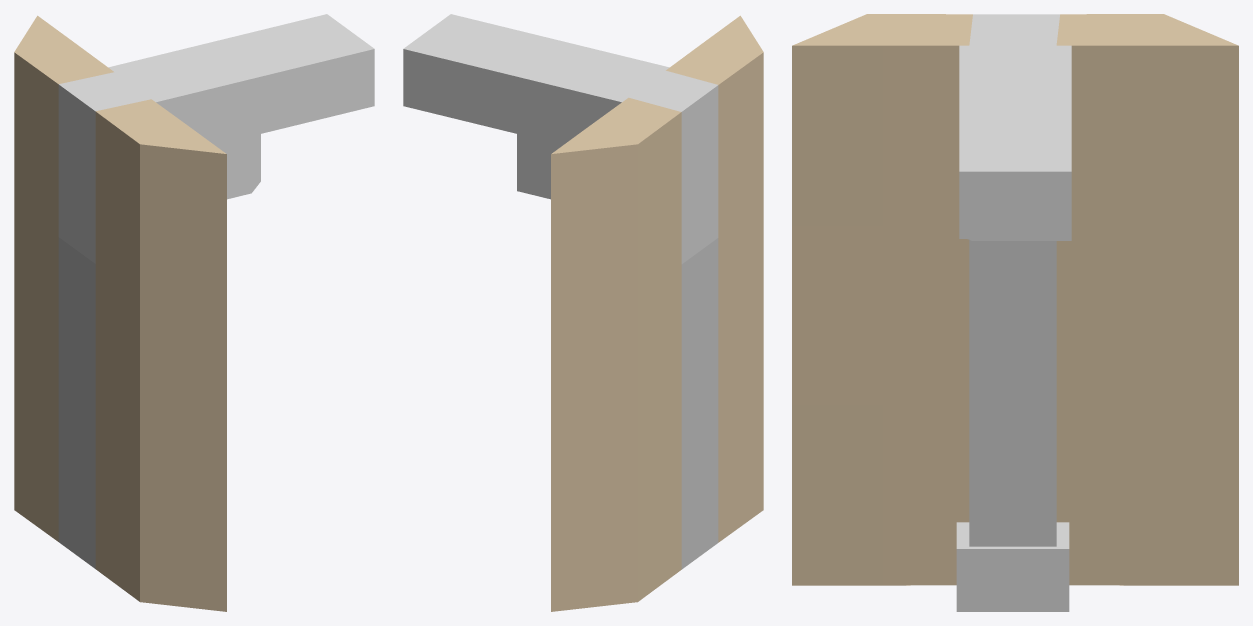
Rendered from WallThresholdB2.fbx.
3 renders of one model, left to right at view 1: azimuth 30°, elevation 25°; view 2: azimuth 150°, elevation 25°; view 3: azimuth 270°, elevation 25°, orthographic. The views are drawn at different scales.
Visible parts, largest first — view 1: WallThresholdB; view 2: WallThresholdB; view 3: WallThresholdB.
Boxes of the visible parts, <box> form: WallThresholdB: <box>14,14,374,611</box>; WallThresholdB: <box>403,14,763,611</box>; WallThresholdB: <box>792,14,1238,611</box>.
Size of the model in its own units: 153 by 183 by 244.
